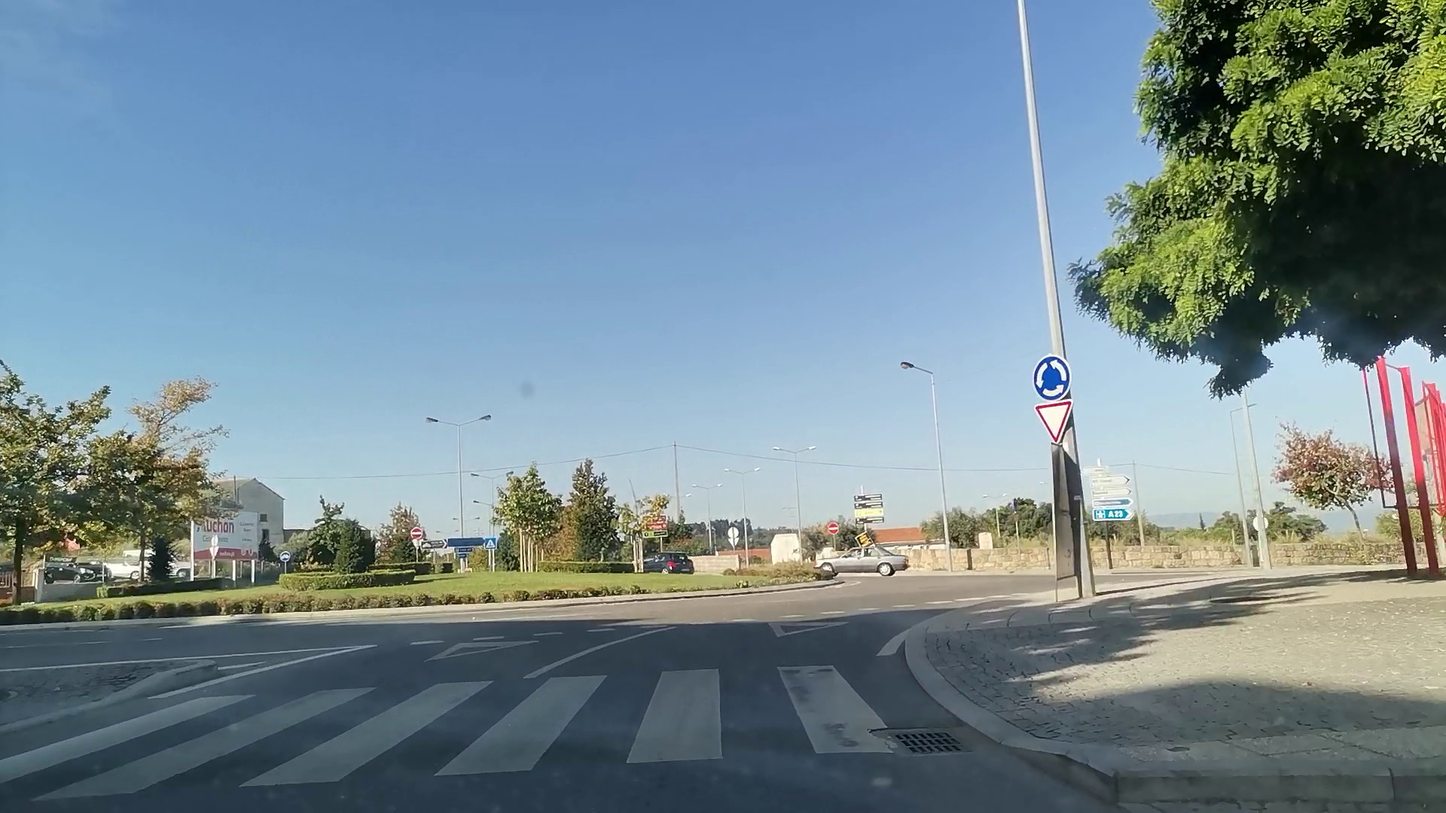Stairs: (115, 662, 934, 805)
